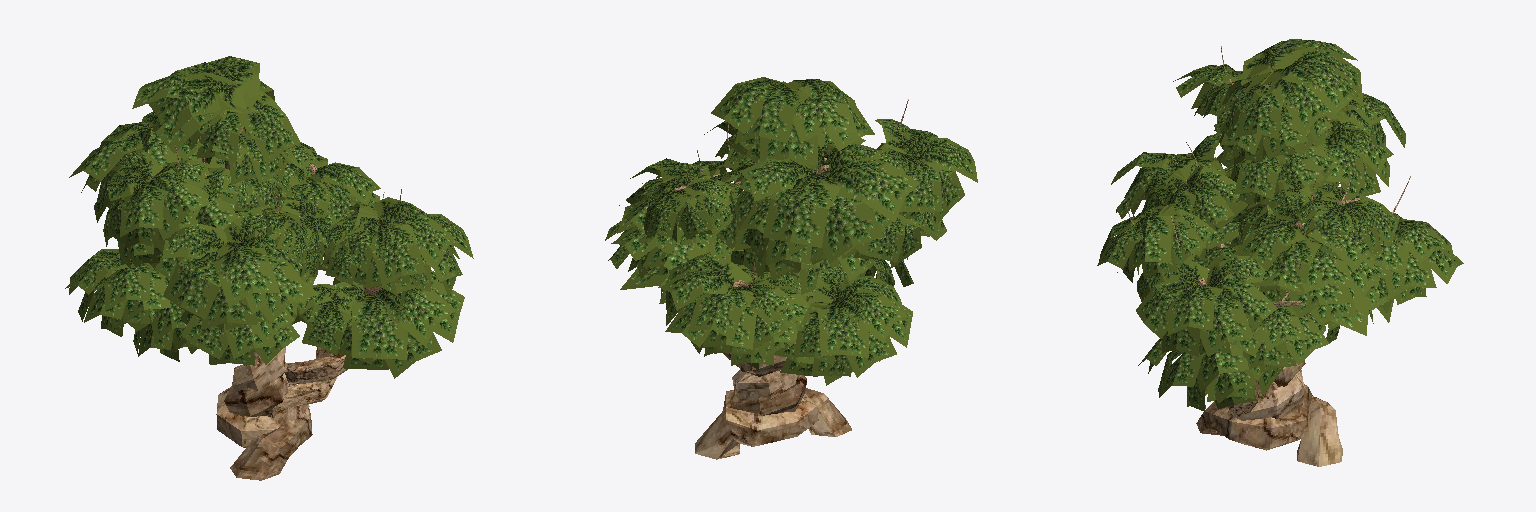
The picture shows the model from 3 angles: view 1: azimuth 30°, elevation 25°; view 2: azimuth 150°, elevation 25°; view 3: azimuth 270°, elevation 25°; orthographic projection.
Visible parts, largest first — view 1: Object_tree_2_jpg, Object_tree_1_jpg; view 2: Object_tree_2_jpg, Object_tree_1_jpg; view 3: Object_tree_2_jpg, Object_tree_1_jpg.
Boxes of the visible parts, x1,y1,x2,y2 form: Object_tree_2_jpg: [65, 56, 473, 378]; Object_tree_1_jpg: [175, 127, 406, 480]; Object_tree_2_jpg: [605, 77, 977, 385]; Object_tree_1_jpg: [642, 99, 908, 459]; Object_tree_2_jpg: [1097, 39, 1463, 411]; Object_tree_1_jpg: [1126, 46, 1410, 466].
Bounding box in the file's own units: 2.44 × 2.5 × 2.24.
2 materials, 2 textured.